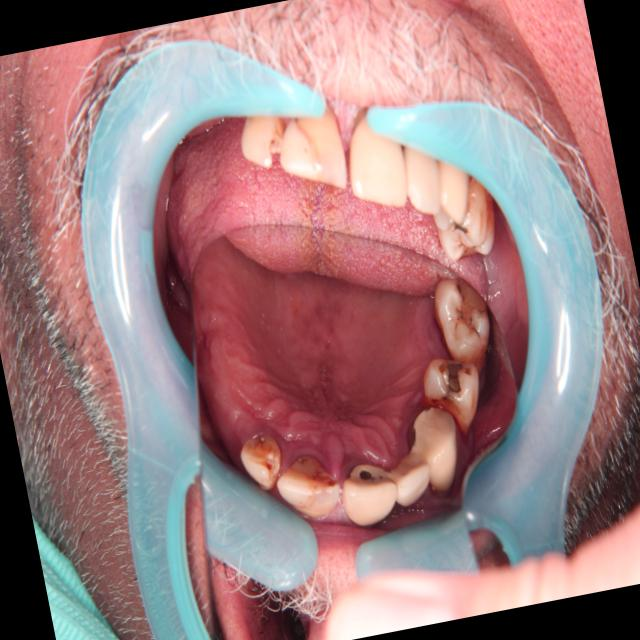tooth: (421, 259, 507, 393), (263, 431, 354, 541), (391, 390, 473, 504), (412, 336, 494, 448), (328, 443, 405, 539), (229, 412, 294, 505), (381, 441, 445, 523)
